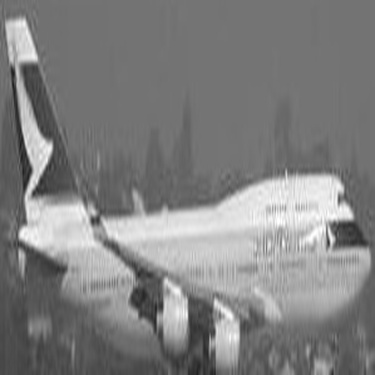airplane: (4, 4, 370, 369)
